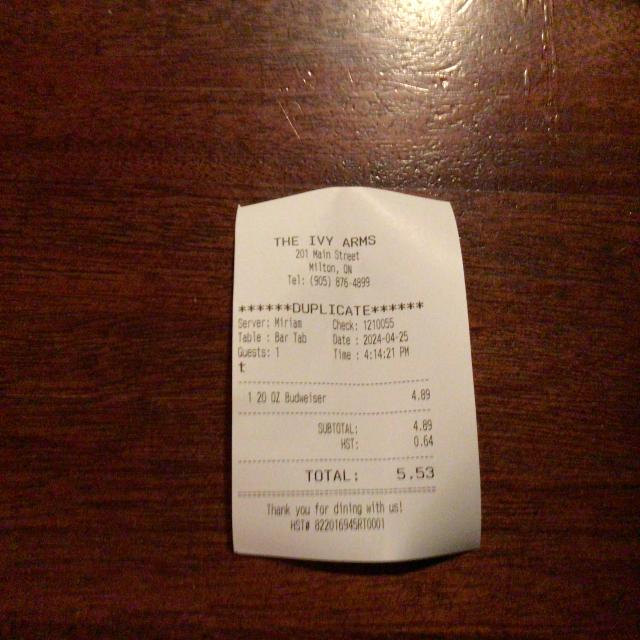item: (254, 383, 434, 408)
store_name: (271, 232, 380, 253)
total_amount: (303, 459, 438, 486)
transaction_date: (359, 329, 412, 347)
